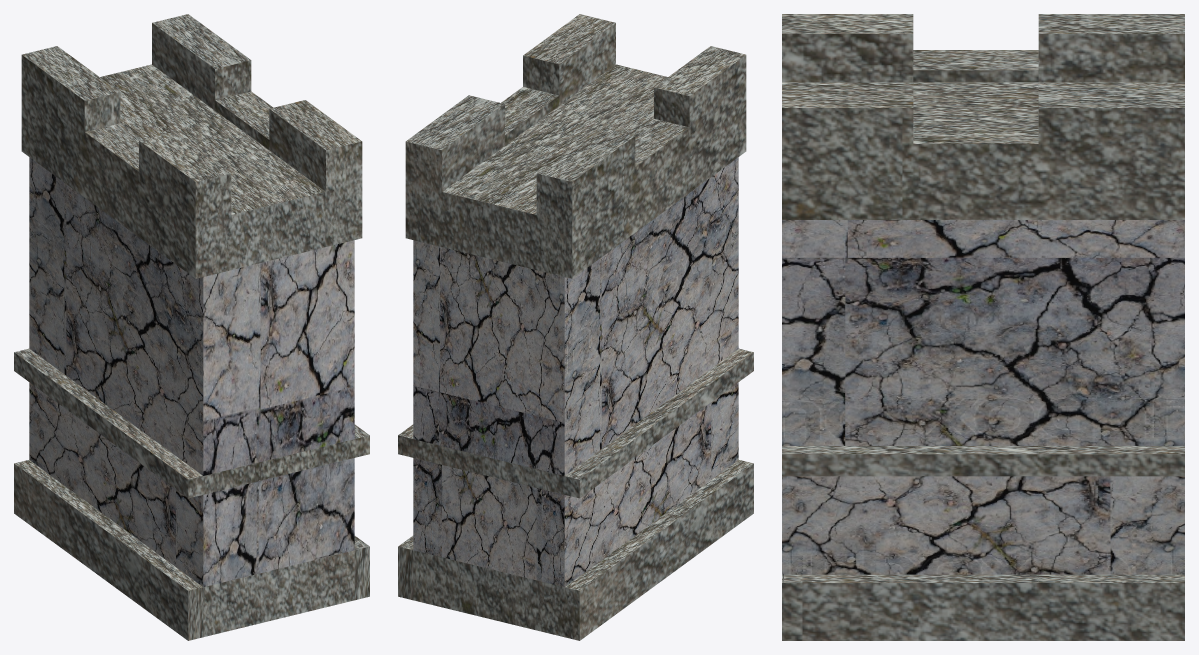
File: Hittites_wall_semidemolished.fbx
The picture shows the model from 3 angles, left to right: view 1: azimuth 30°, elevation 25°; view 2: azimuth 150°, elevation 25°; view 3: azimuth 270°, elevation 25°; orthographic projection. The views are drawn at different scales.
Visible parts, largest first — view 1: Cube; view 2: Cube; view 3: Cube.
Part boxes in pixels (x1,y1,x2,y2): Cube: (14, 14, 369, 640); Cube: (398, 14, 753, 640); Cube: (782, 14, 1184, 640).
Size of the model in its own units: 264 by 634 by 438.
1 material, 1 textured.
